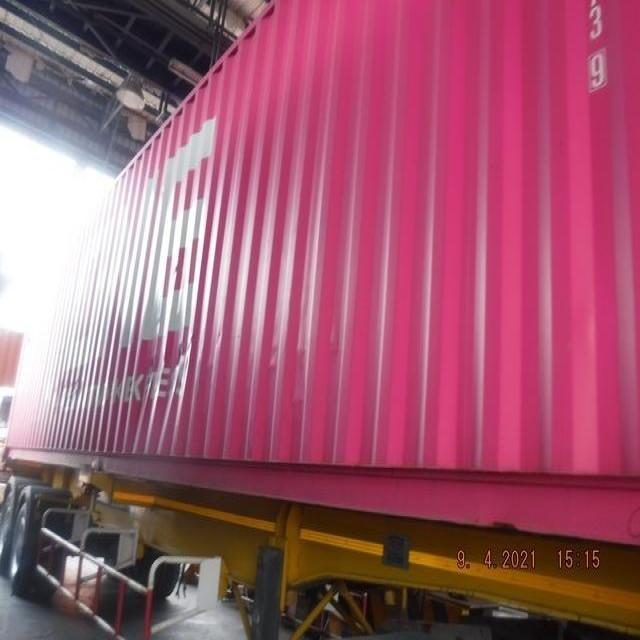dent: (128, 280, 221, 433)
